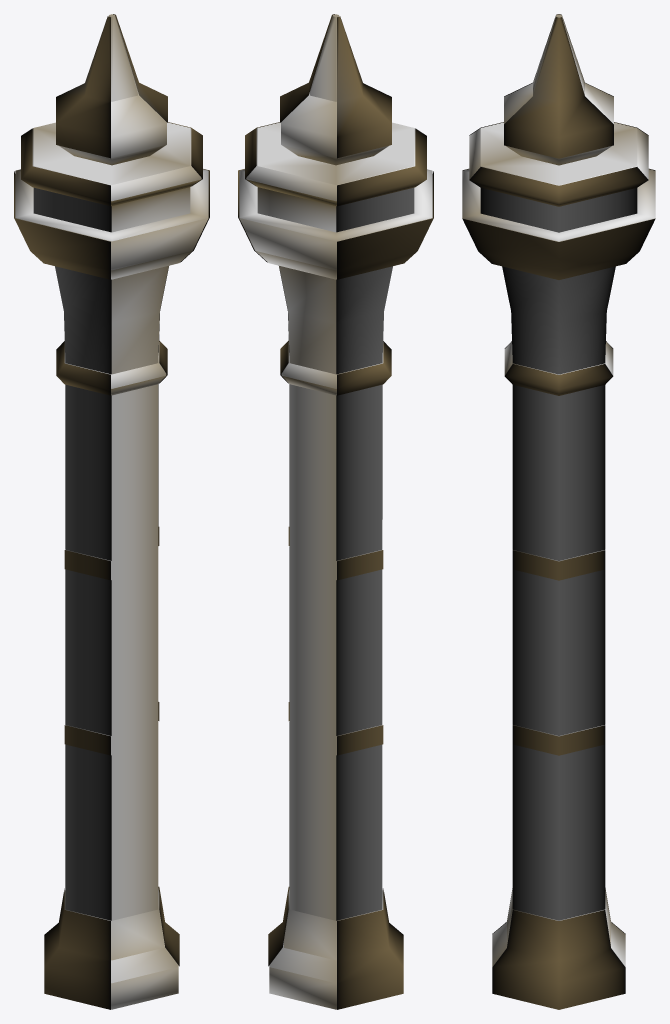
File: SpacePillarFixed.gltf
3 views of the same model, side by side, from view 1: azimuth 30°, elevation 25°; view 2: azimuth 150°, elevation 25°; view 3: azimuth 270°, elevation 25° (orthographic).
Parts seen in each view (by area): view 1: SpacePillarFixedMesh; view 2: SpacePillarFixedMesh; view 3: SpacePillarFixedMesh.
Boxes of the visible parts, x1=… form: SpacePillarFixedMesh: x1=14, y1=14, x2=209, y2=1009; SpacePillarFixedMesh: x1=238, y1=14, x2=433, y2=1009; SpacePillarFixedMesh: x1=462, y1=14, x2=655, y2=1009.
Size of what is drawn, in the model's own units: 2.12 by 9.97 by 1.82.
